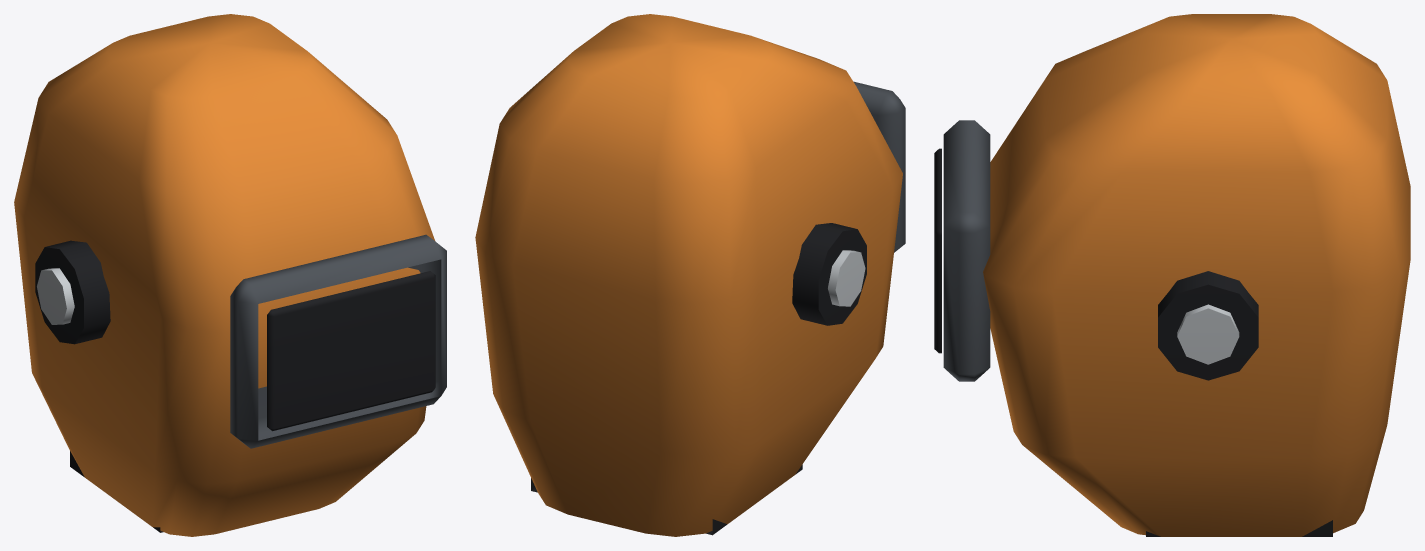
The model's file is SM_WeldingHelmet_01.glb.
3 views of the same model, side by side, from view 1: azimuth 30°, elevation 25°; view 2: azimuth 150°, elevation 25°; view 3: azimuth 270°, elevation 25° (orthographic). The views are drawn at different scales.
Visible parts, largest first — view 1: SM_WeldingHelmet_01; view 2: SM_WeldingHelmet_01; view 3: SM_WeldingHelmet_01.
Boxes of the visible parts, left/top/right/bottom form: SM_WeldingHelmet_01: left=14, top=14, right=446, bottom=536; SM_WeldingHelmet_01: left=475, top=14, right=905, bottom=536; SM_WeldingHelmet_01: left=934, top=14, right=1410, bottom=536.
Size of the model in its own units: 0.26 by 0.32 by 0.306.
Materials: 1 (1 with a texture image).
